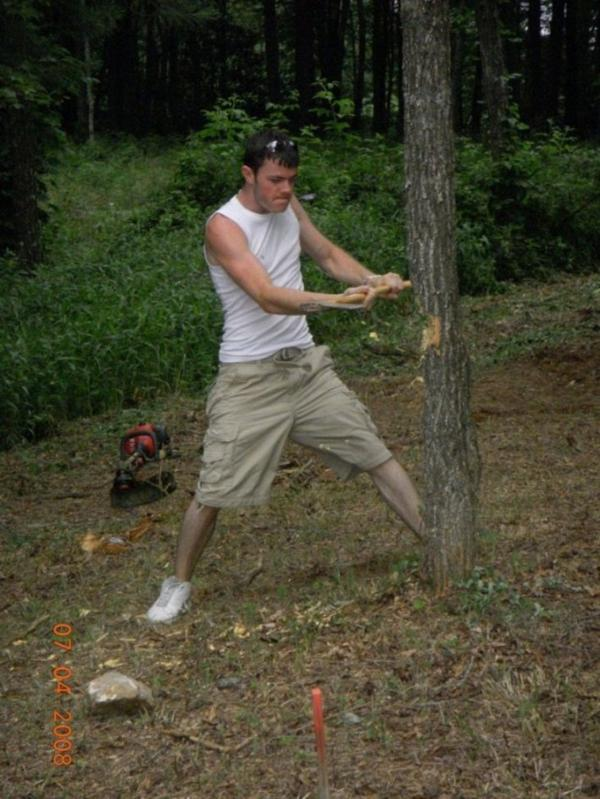person: (149, 123, 428, 625)
